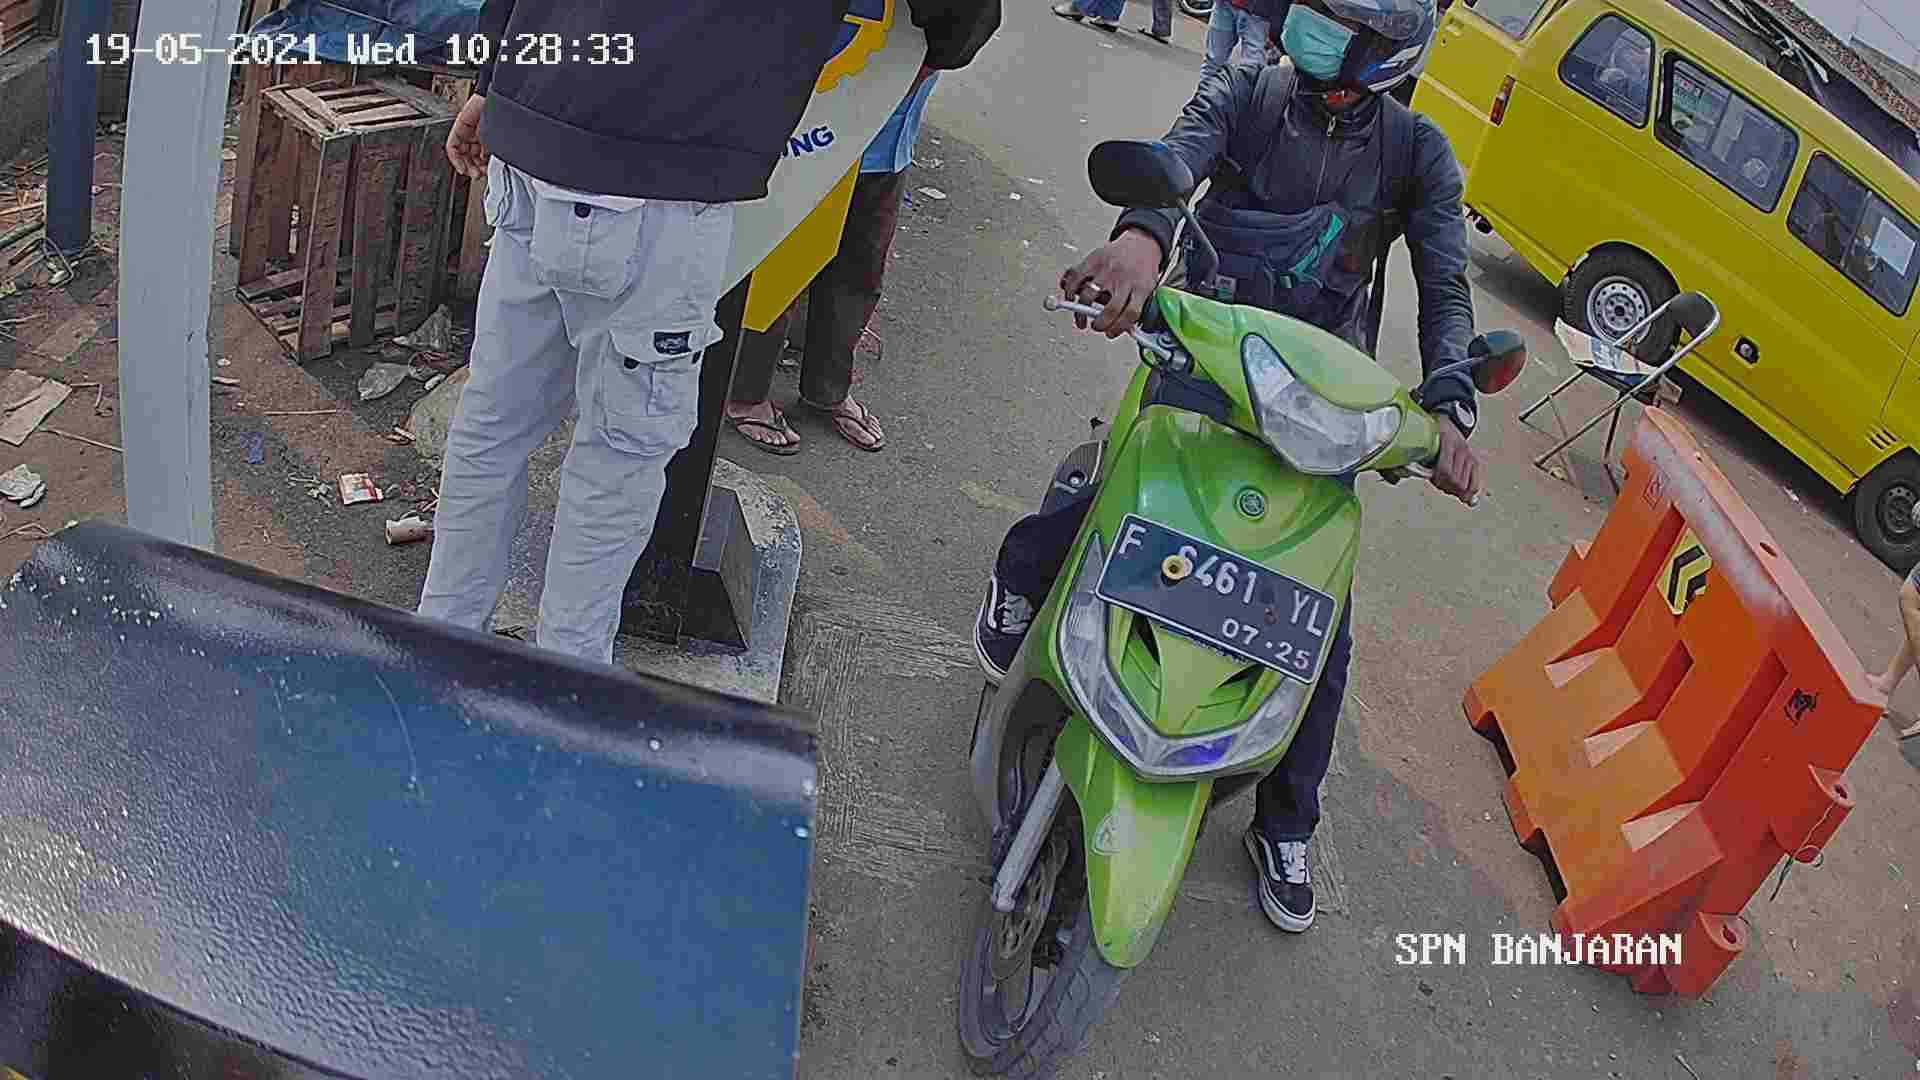motor: (934, 266, 1338, 1071)
